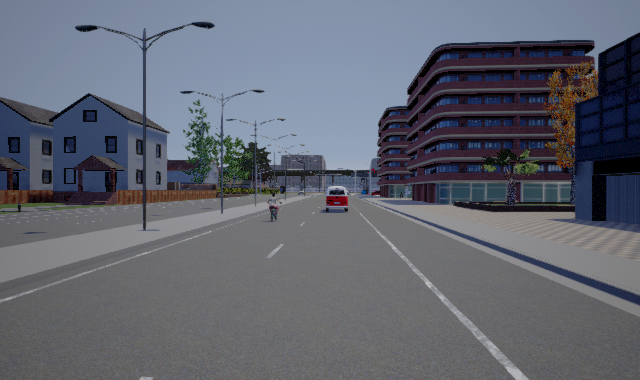bike: (267, 193, 282, 221)
vehicle: (325, 186, 348, 211)
